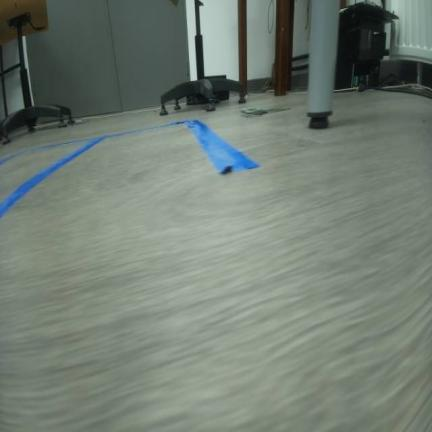place: (0, 117, 258, 215)
